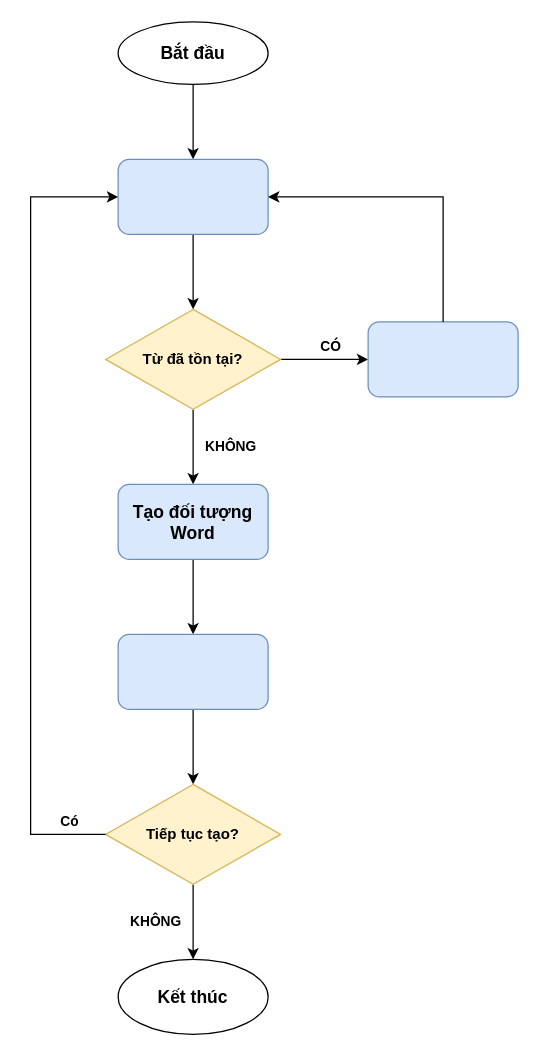
Image size: 540x1056. Some labels were removed from this diagram. Each missing label, with the box of its shape:
Báo lỗi Từ đã trùng: (367, 321, 518, 397)
Nhập Term & meaning: (117, 158, 268, 234)
Thêm vào Deck & lưu file: (117, 633, 268, 709)
